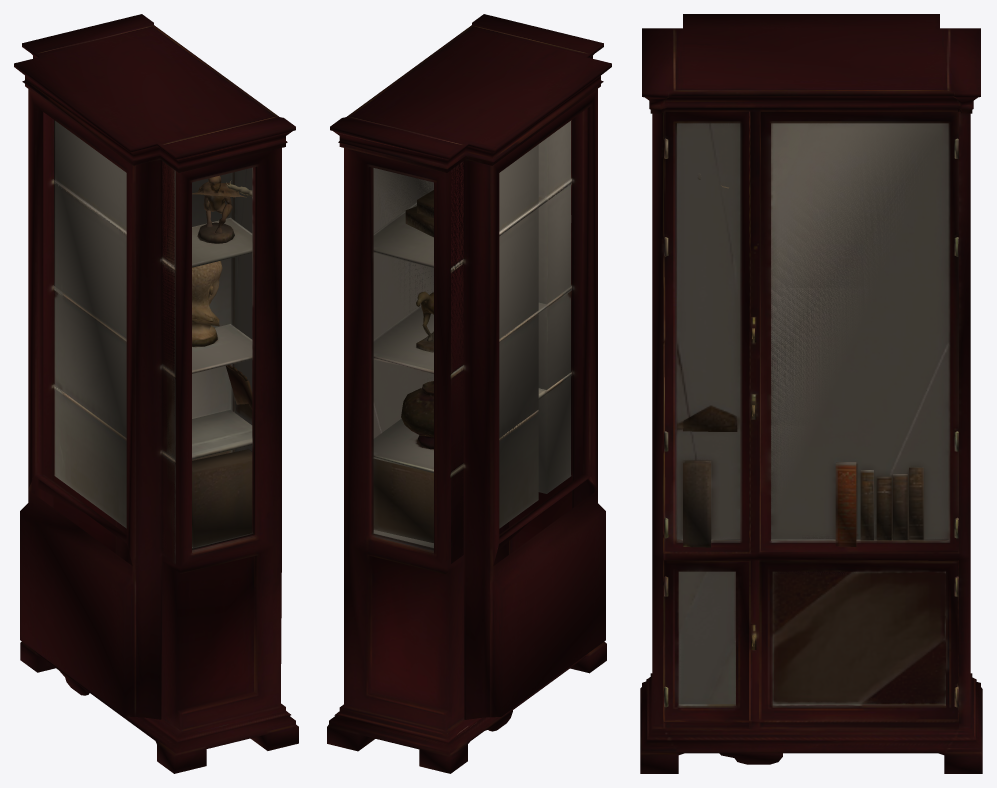
The picture shows the model from 3 angles, left to right: view 1: azimuth 30°, elevation 25°; view 2: azimuth 150°, elevation 25°; view 3: azimuth 270°, elevation 25°; orthographic projection. The views are drawn at different scales.
Parts seen in each view (by area): view 1: tripo_node_9a6baf5d-62c6-4e2d-9f86-390dbe20a438; view 2: tripo_node_9a6baf5d-62c6-4e2d-9f86-390dbe20a438; view 3: tripo_node_9a6baf5d-62c6-4e2d-9f86-390dbe20a438.
Part boxes in pixels (x1,y1,x2,y2): tripo_node_9a6baf5d-62c6-4e2d-9f86-390dbe20a438: (14,14,298,773); tripo_node_9a6baf5d-62c6-4e2d-9f86-390dbe20a438: (327,14,611,773); tripo_node_9a6baf5d-62c6-4e2d-9f86-390dbe20a438: (640,14,982,773).
Size of the model in its own units: 0.252 by 0.998 by 0.4551.
1 material, 1 textured.
